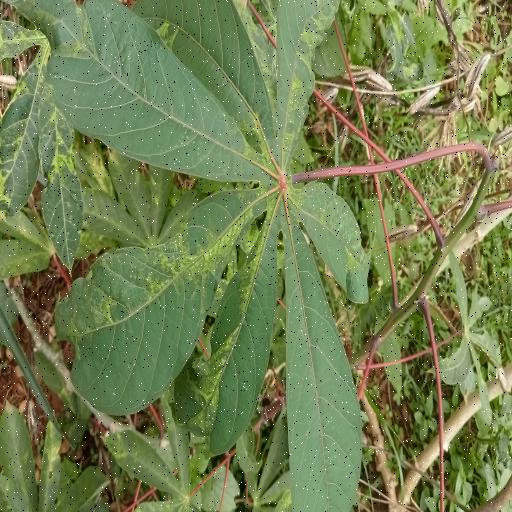Cassava_Mosaic: (8, 0, 373, 512)
